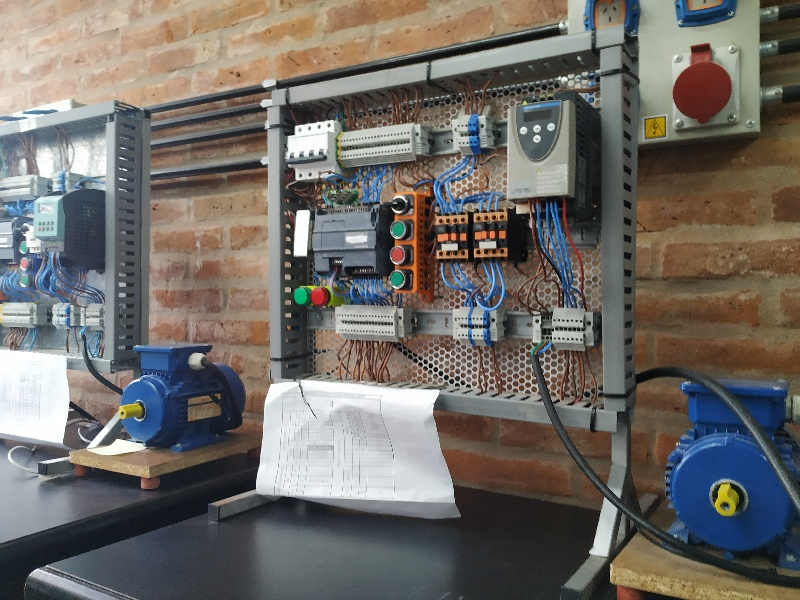Tablero 4: (275, 49, 613, 392)
